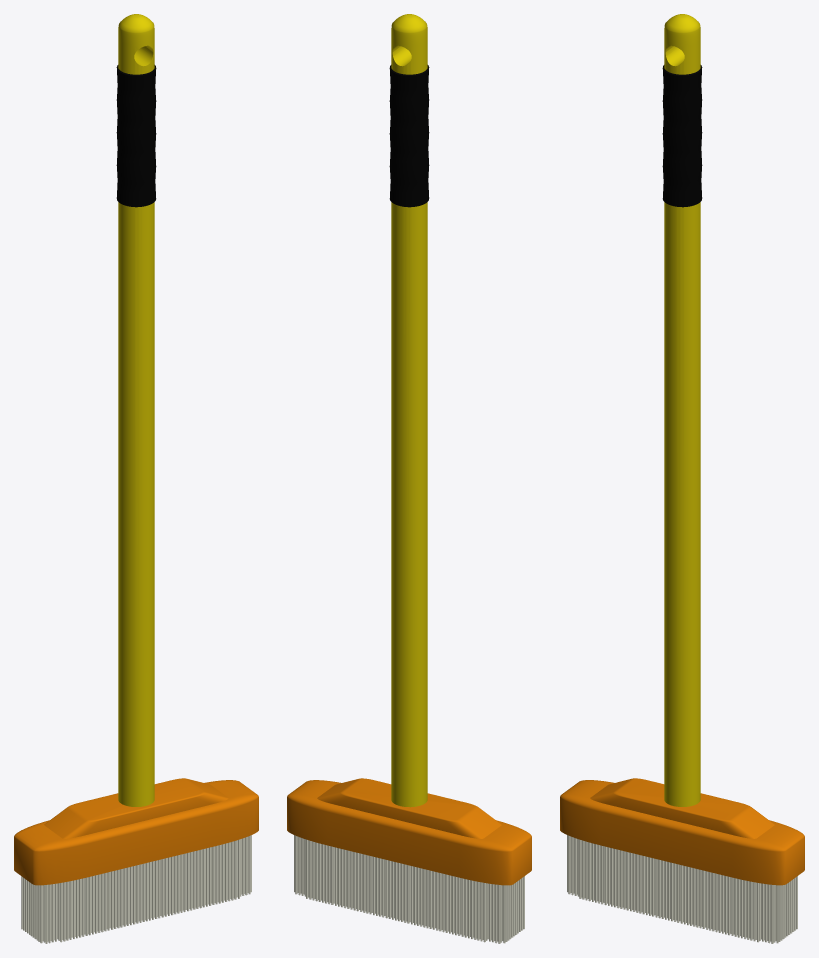
Rendered from Broom.fbx.
The picture shows the model from 3 angles, left to right: view 1: azimuth 30°, elevation 25°; view 2: azimuth 150°, elevation 25°; view 3: azimuth 330°, elevation 25°; orthographic projection.
Visible parts, largest first — view 1: Cylinder, Cube.001, Cube, Cylinder.001; view 2: Cylinder, Cube.001, Cube, Cylinder.001; view 3: Cylinder, Cube.001, Cube, Cylinder.001.
Part boxes in pixels (<box>): Cylinder: <box>118,14,154,806</box>; Cube.001: <box>14,778,258,885</box>; Cube: <box>21,835,251,943</box>; Cylinder.001: <box>116,65,156,207</box>; Cylinder: <box>391,14,427,807</box>; Cube.001: <box>287,778,531,885</box>; Cube: <box>294,835,524,943</box>; Cylinder.001: <box>389,65,429,207</box>; Cylinder: <box>664,14,700,806</box>; Cube.001: <box>560,778,804,885</box>; Cube: <box>567,835,797,943</box>; Cylinder.001: <box>662,65,702,207</box>.
Size of the model in its own units: 832 by 3150 by 200.
